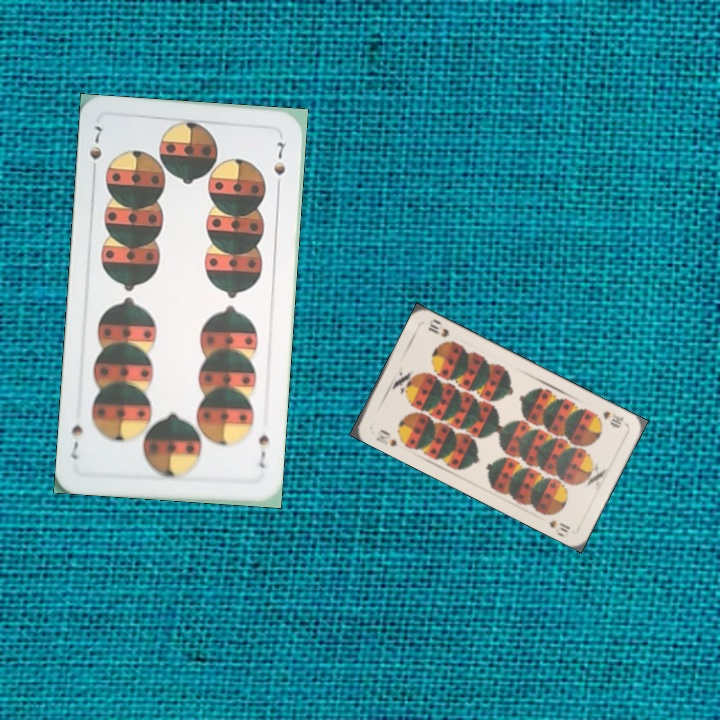S10: (598, 407, 626, 431), (372, 425, 400, 449)
S7: (85, 121, 105, 179), (254, 430, 271, 471)
